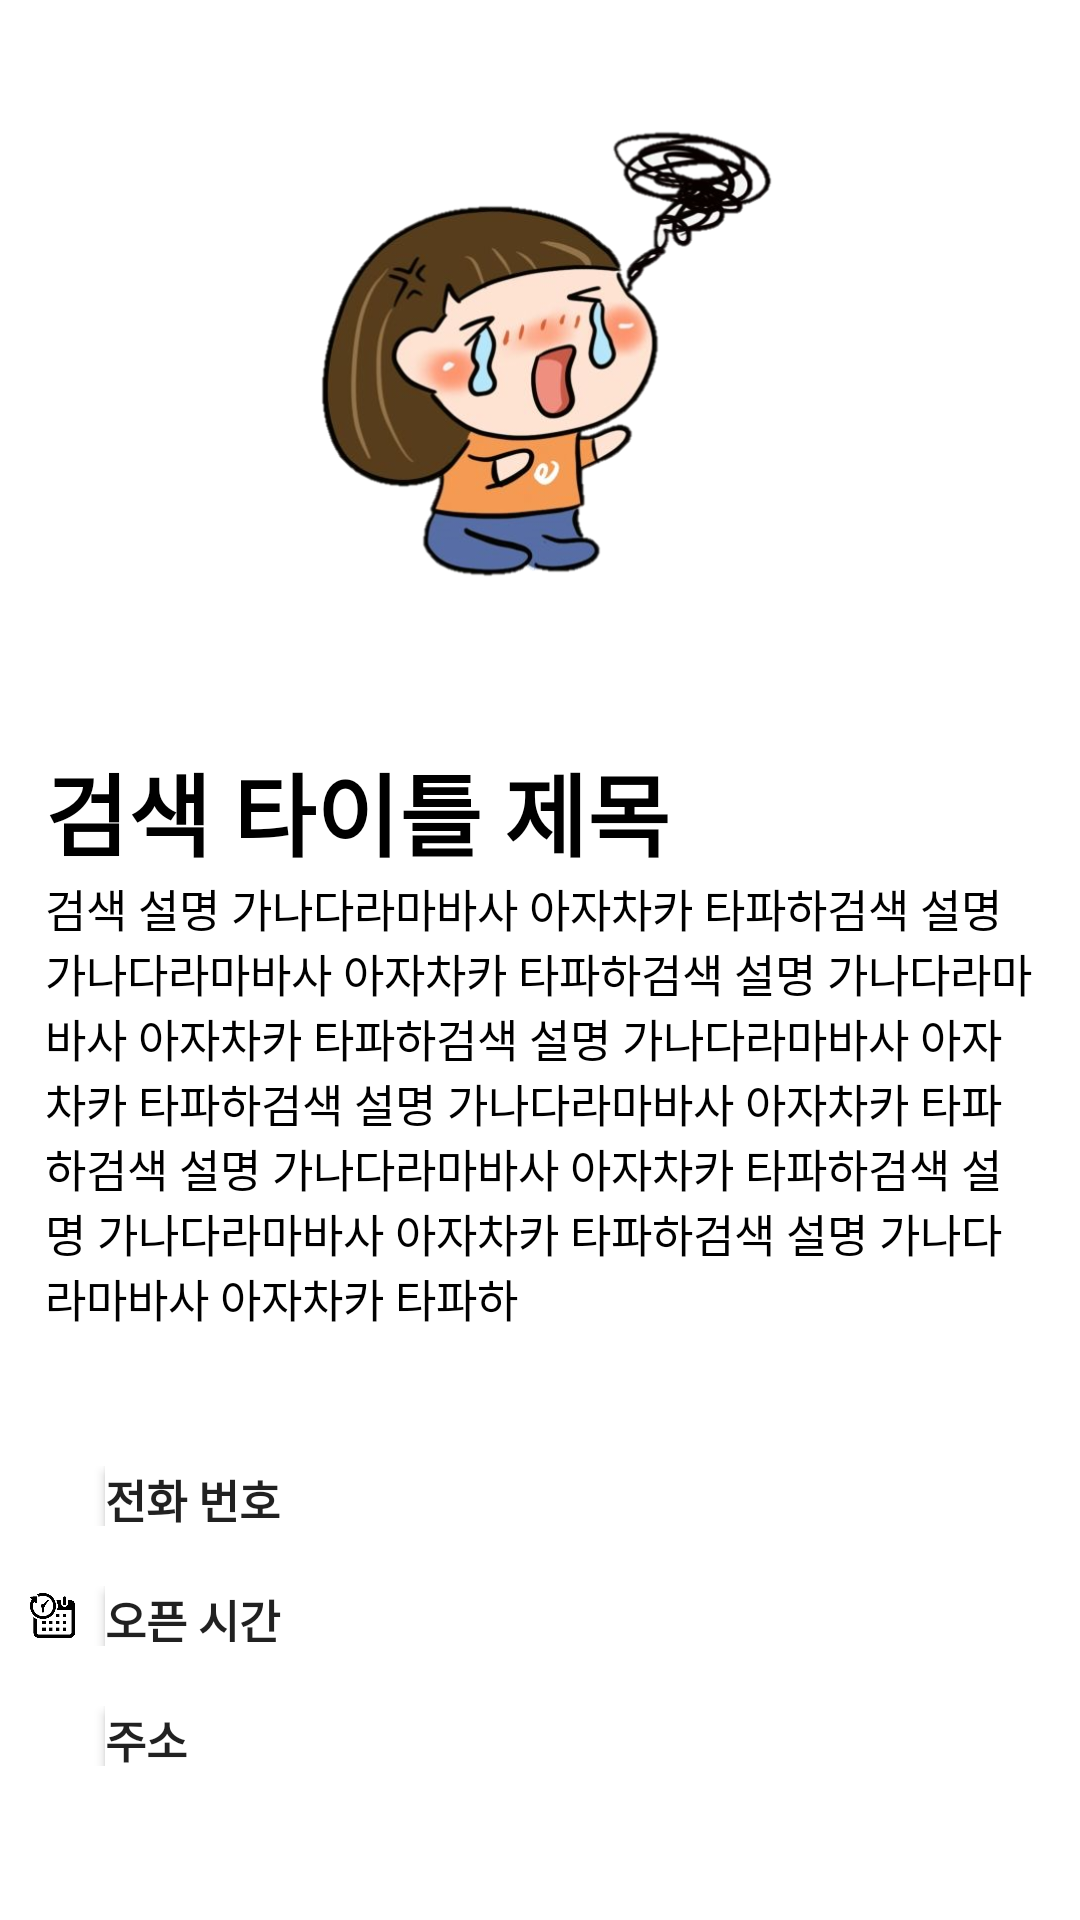

Screen size 1080×1920. Icon name, then its center in pixels as (x,y):
opentime: (52,1615)
